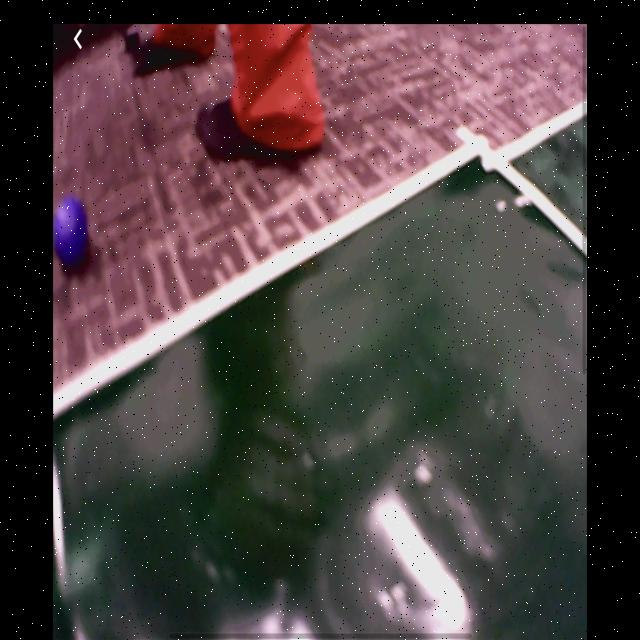ball: (54, 198, 89, 265)
